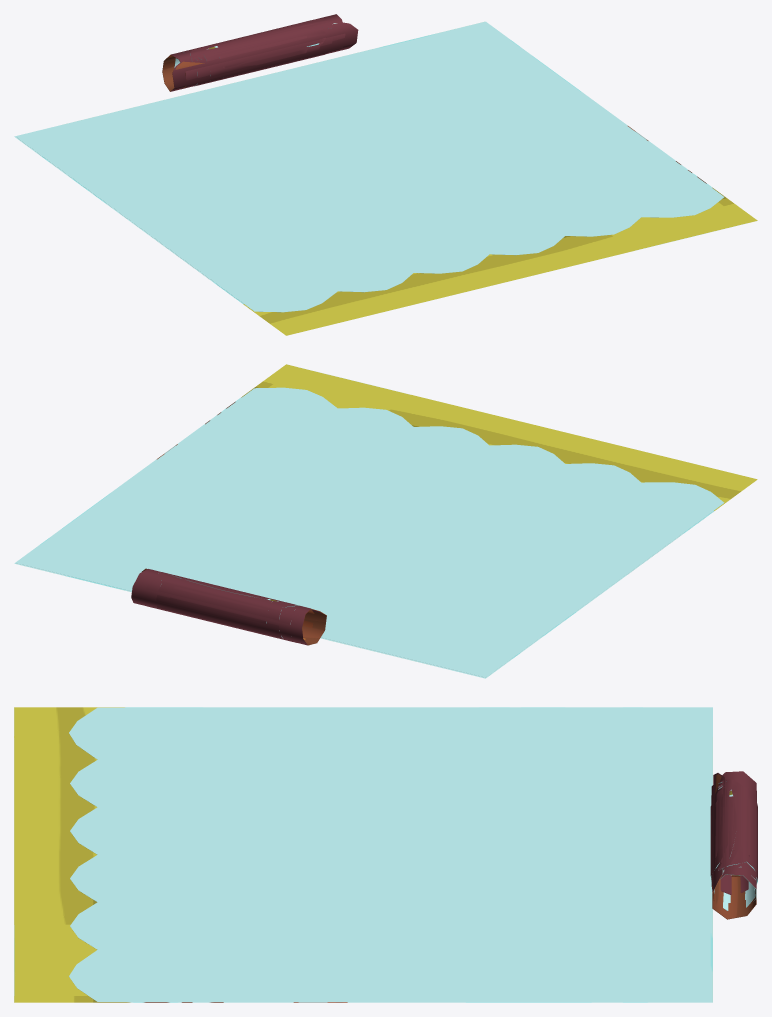
3 renders of one model, top to bottom at view 1: azimuth 30°, elevation 25°; view 2: azimuth 150°, elevation 25°; view 3: azimuth 270°, elevation 25°, orthographic. The views are drawn at different scales.
Visible parts, largest first — view 1: blend_01, mesh, blend_02; view 2: blend_01, mesh, blend_02; view 3: blend_01, mesh, blend_02.
Part boxes in pixels (x1,y1,x2,y2): blend_01: (16, 22, 723, 312); mesh: (14, 21, 757, 335); blend_02: (162, 14, 358, 91); blend_01: (16, 387, 724, 677); mesh: (14, 364, 757, 678); blend_02: (131, 568, 326, 645); blend_01: (69, 707, 710, 1001); mesh: (14, 707, 712, 1002); blend_02: (710, 771, 757, 919).
Bounding box in the file's own units: 2400 × 163 × 2554.
